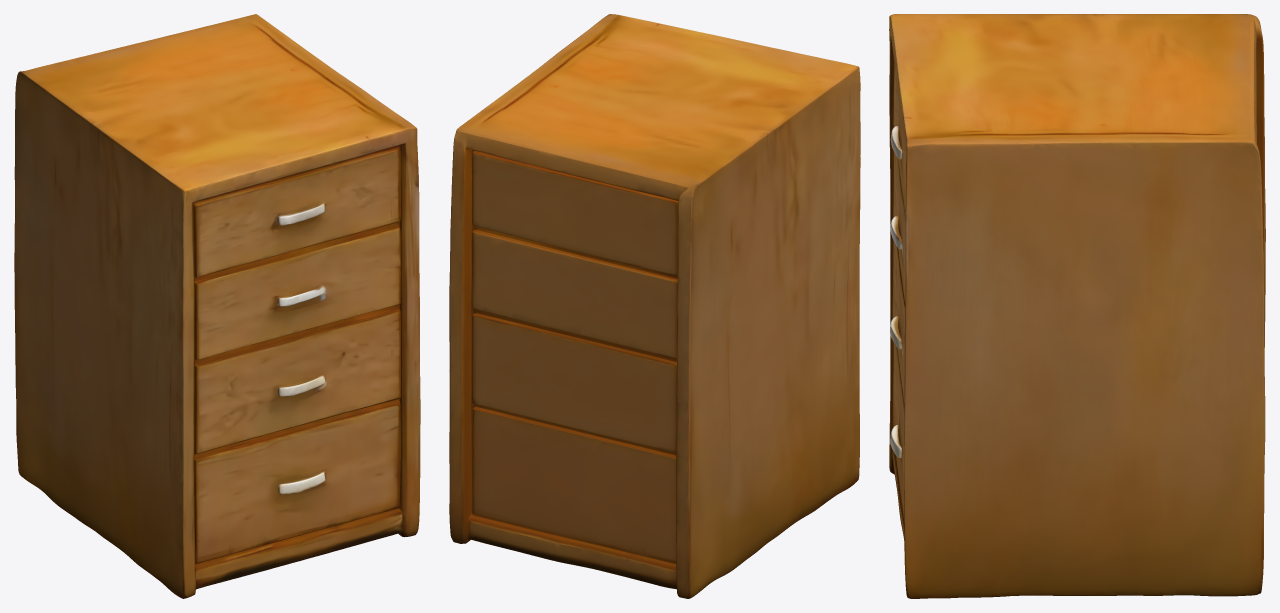
The model's file is filing_cabinet.fbx.
The picture shows the model from 3 angles, left to right: view 1: azimuth 30°, elevation 25°; view 2: azimuth 150°, elevation 25°; view 3: azimuth 270°, elevation 25°; orthographic projection. The views are drawn at different scales.
Parts seen in each view (by area): view 1: model; view 2: model; view 3: model.
Part boxes in pixels (<box>): model: <box>14,14,420,598</box>; model: <box>449,14,860,598</box>; model: <box>889,14,1265,598</box>.
Bounding box in the file's own units: 118 × 190 × 142.
1 material, 1 textured.
